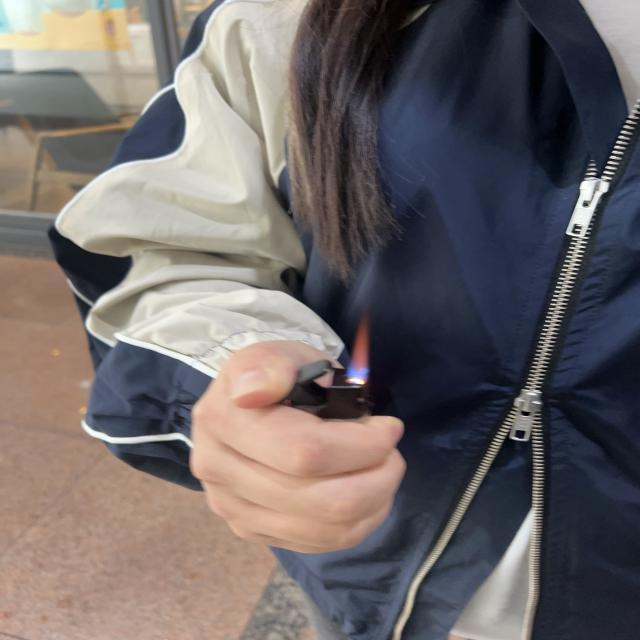fire: (346, 323, 369, 378)
